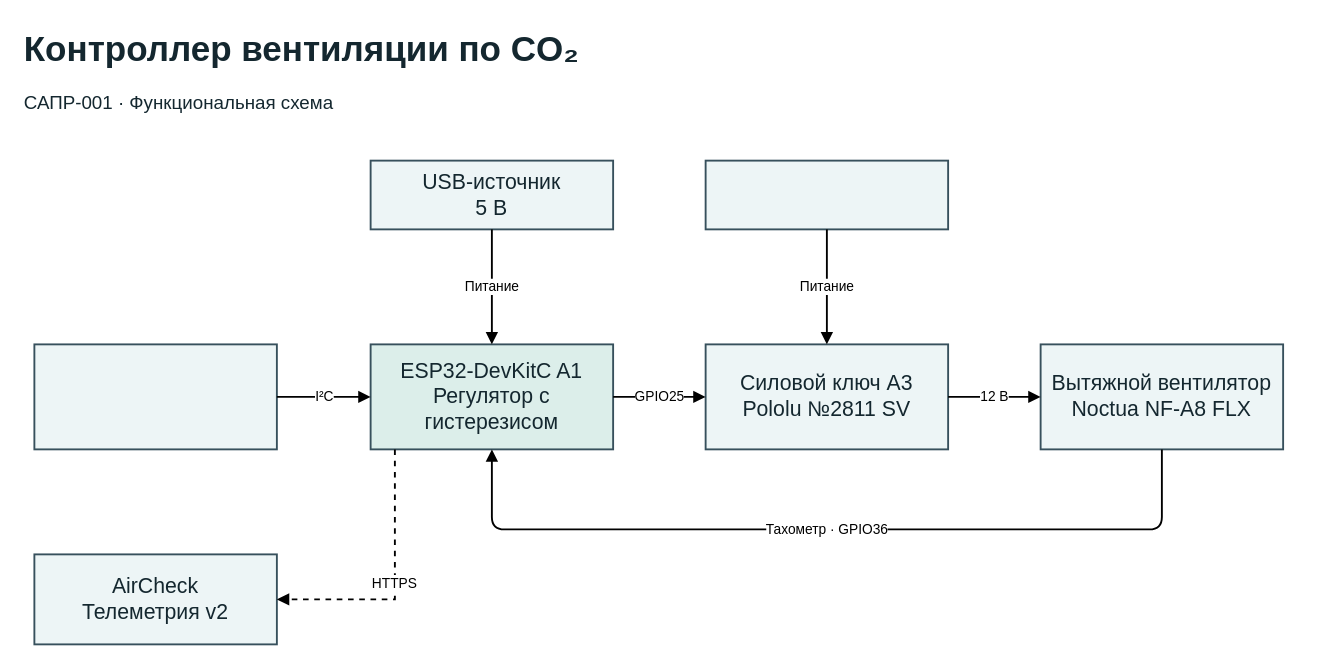
Some shapes in this 1318 by 666 pixel diagram are drawn without their labels. The shapes that lost their labels are listed below. From the top down, each one's box as (x1, y1, x2, y2) in pixels, then its label:
(704, 159, 948, 230): Источник 12 В и защита ветви
(33, 343, 277, 450): Датчик CO₂ A2 SCD41
